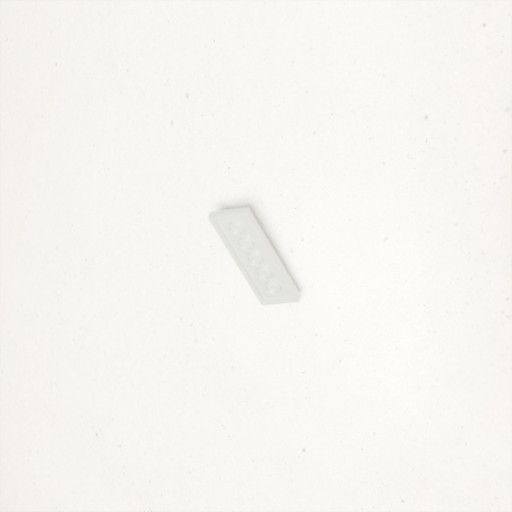lego: (207, 207, 302, 306)
